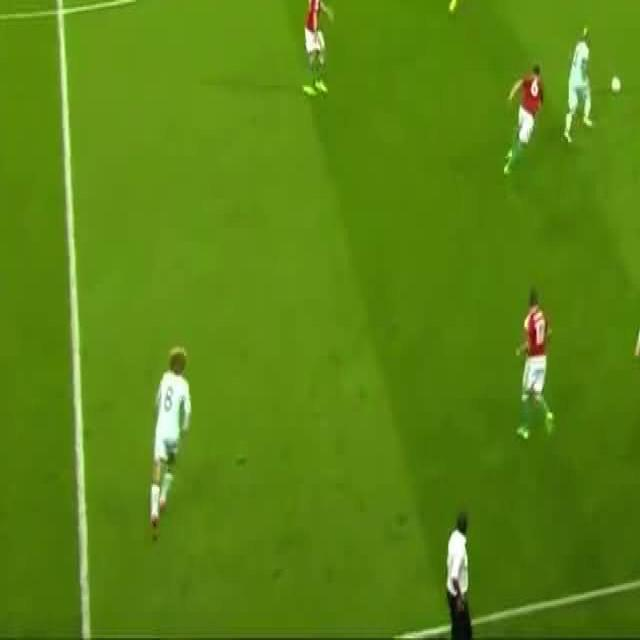ball: (610, 74, 621, 94)
player-white: (148, 346, 192, 540), (514, 288, 554, 441), (501, 66, 543, 176), (562, 28, 594, 142), (302, 0, 333, 94), (634, 297, 640, 471), (447, 0, 475, 10)
